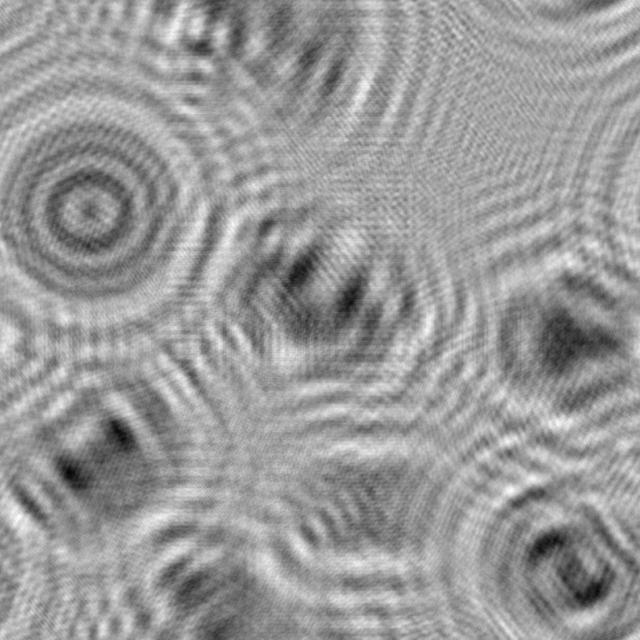A: (431, 219, 640, 459)
E: (0, 331, 226, 566)
I: (254, 401, 484, 599)
M: (197, 166, 454, 415)
O: (0, 84, 204, 342)
S: (434, 434, 640, 640)
U: (130, 0, 378, 181)
Y: (109, 493, 323, 640)
